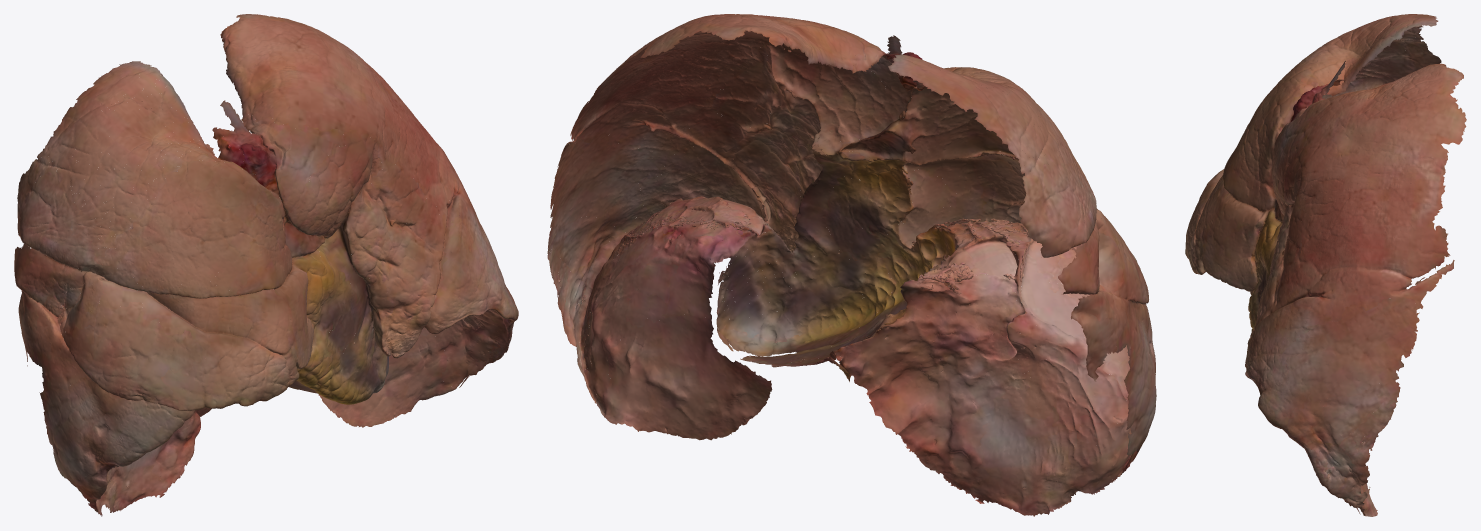
File: infected-lung.glb
The picture shows the model from 3 angles, left to right: view 1: azimuth 30°, elevation 25°; view 2: azimuth 150°, elevation 25°; view 3: azimuth 270°, elevation 25°; orthographic projection. The views are drawn at different scales.
Visible parts, largest first — view 1: LungSemiInflated_4, LungSemiInflated_5, LungSemiInflated_3, LungSemiInflated_2, LungSemiInflated_1; view 2: LungSemiInflated_3, LungSemiInflated_4, LungSemiInflated_5, LungSemiInflated_2, LungSemiInflated_1; view 3: LungSemiInflated_4, LungSemiInflated_5, LungSemiInflated_3, LungSemiInflated_2.
Boxes of the visible parts, x1=… form: LungSemiInflated_4: x1=34, y1=14, x2=486, y2=410; LungSemiInflated_5: x1=39, y1=129, x2=517, y2=513; LungSemiInflated_3: x1=17, y1=67, x2=518, y2=516; LungSemiInflated_2: x1=14, y1=124, x2=518, y2=473; LungSemiInflated_1: x1=16, y1=44, x2=506, y2=387; LungSemiInflated_3: x1=547, y1=35, x2=1148, y2=516; LungSemiInflated_4: x1=557, y1=14, x2=1109, y2=332; LungSemiInflated_5: x1=547, y1=41, x2=1156, y2=481; LungSemiInflated_2: x1=547, y1=44, x2=1147, y2=423; LungSemiInflated_1: x1=555, y1=48, x2=1101, y2=452; LungSemiInflated_4: x1=1185, y1=14, x2=1466, y2=353; LungSemiInflated_5: x1=1225, y1=61, x2=1420, y2=516; LungSemiInflated_3: x1=1245, y1=16, x2=1441, y2=448; LungSemiInflated_2: x1=1203, y1=72, x2=1396, y2=516.
Bounding box in the file's own units: 246 × 207 × 135.
Materials: 1 (1 with a texture image).
